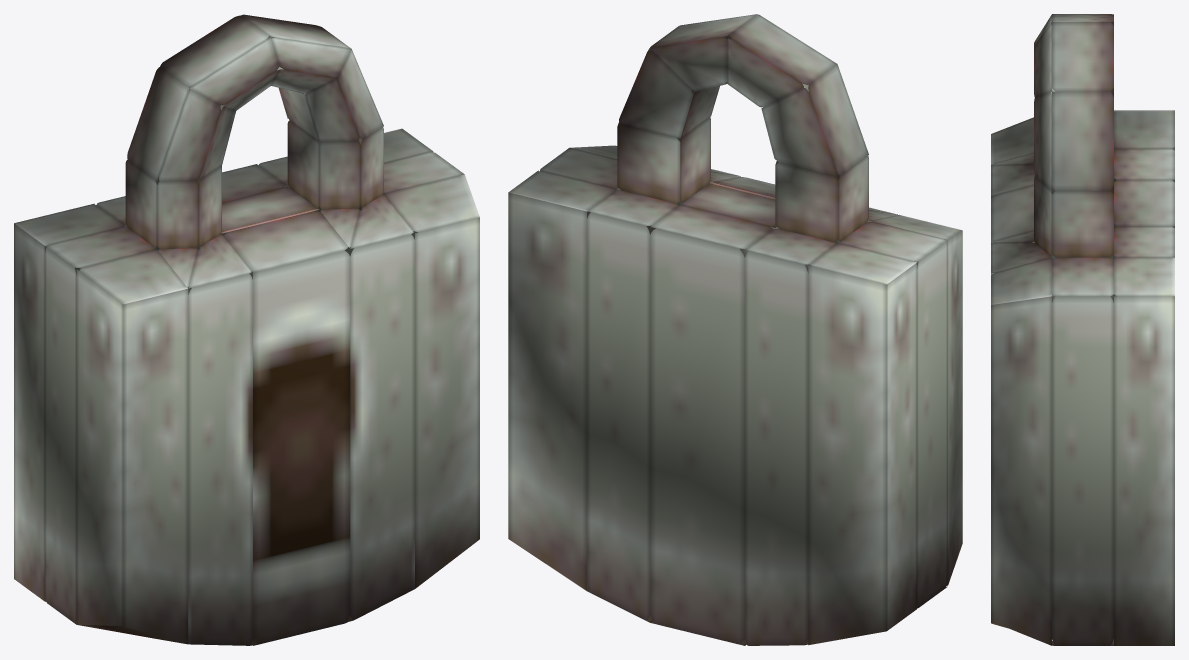
3 renders of one model, left to right at view 1: azimuth 30°, elevation 25°; view 2: azimuth 150°, elevation 25°; view 3: azimuth 270°, elevation 25°, orthographic. The views are drawn at different scales.
Visible parts, largest first — view 1: T1L1M006_9; view 2: T1L1M006_9; view 3: T1L1M006_9.
Boxes of the visible parts, x1=… form: T1L1M006_9: x1=14, y1=14, x2=479, y2=645; T1L1M006_9: x1=508, y1=14, x2=962, y2=645; T1L1M006_9: x1=991, y1=14, x2=1174, y2=645.
Size of the model in its own units: 0.4795 by 0.6973 by 0.2002.
